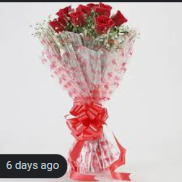RedRose: (95, 15, 114, 36)
